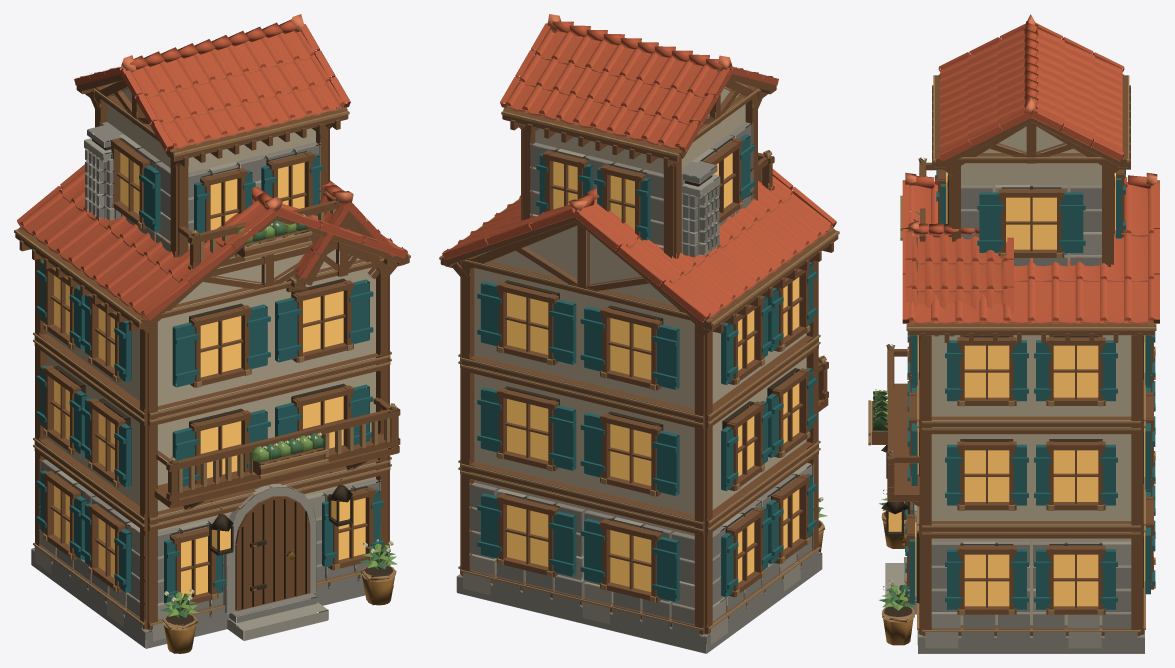
The picture shows the model from 3 angles, left to right: view 1: azimuth 30°, elevation 25°; view 2: azimuth 150°, elevation 25°; view 3: azimuth 270°, elevation 25°; orthographic projection.
Parts seen in each view (by area): view 1: alpine_villa_3_geometry, alpine_villa_3_geometry ceramic; view 2: alpine_villa_3_geometry, alpine_villa_3_geometry ceramic; view 3: alpine_villa_3_geometry, alpine_villa_3_geometry ceramic.
Boxes of the visible parts, x1,y1,x2,y2 form: alpine_villa_3_geometry: [14, 73, 410, 653]; alpine_villa_3_geometry ceramic: [17, 14, 407, 320]; alpine_villa_3_geometry: [439, 73, 839, 653]; alpine_villa_3_geometry ceramic: [442, 14, 836, 322]; alpine_villa_3_geometry: [868, 74, 1156, 653]; alpine_villa_3_geometry ceramic: [902, 14, 1159, 324].
Size of the model in its own units: 0.9348 by 1.76 by 0.8713.
